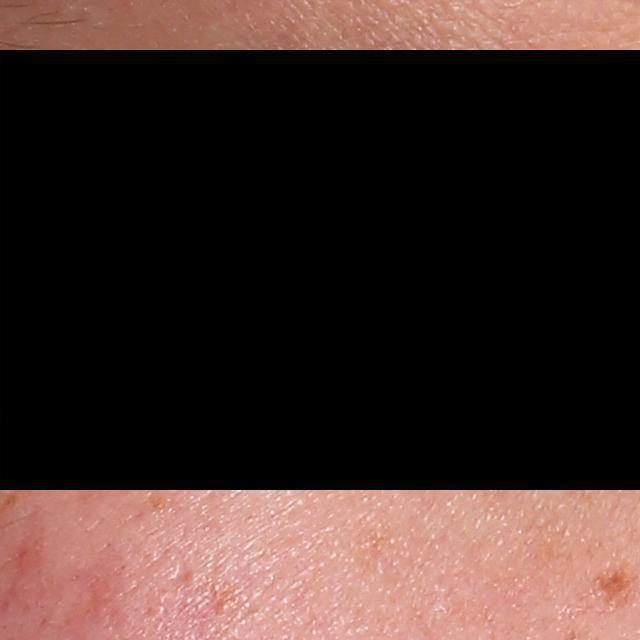melasma: (590, 563, 637, 618)
